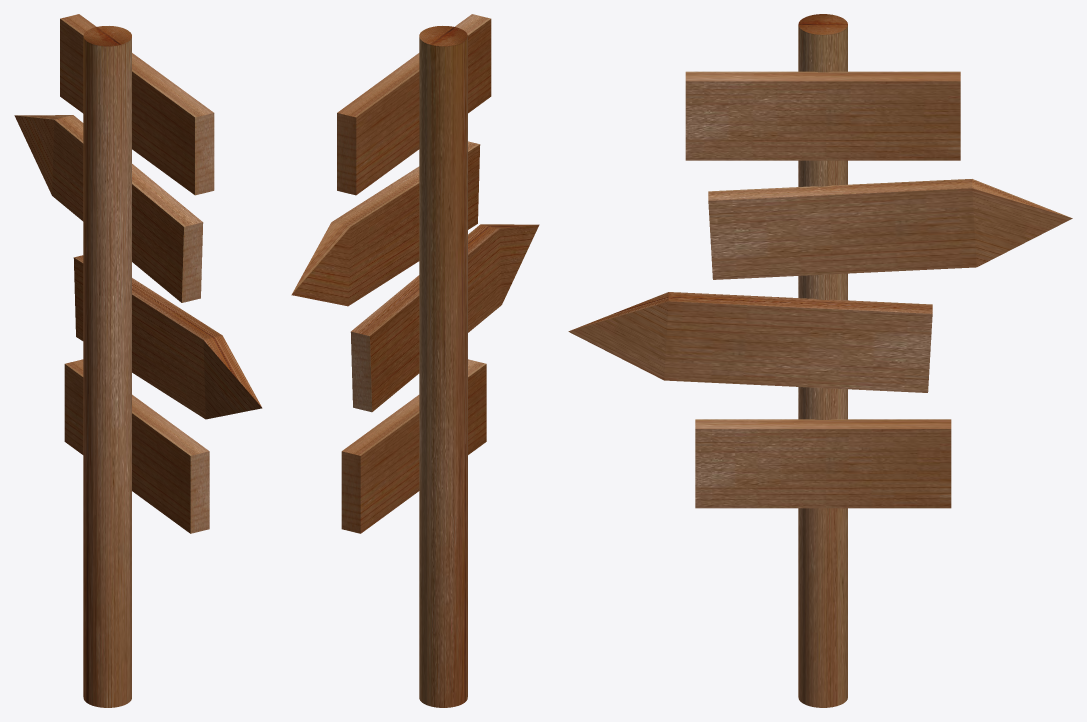
File: SignWIndications2.fbx
3 views of the same model, side by side, from view 1: azimuth 30°, elevation 25°; view 2: azimuth 150°, elevation 25°; view 3: azimuth 270°, elevation 25° (orthographic).
Visible parts, largest first — view 1: Cylinder, Sign2Options, Sign3Credits, Sign1Play, Sign4Exit; view 2: Cylinder, Sign3Credits, Sign2Options, Sign1Play, Sign4Exit; view 3: Sign2Options, Sign3Credits, Sign1Play, Sign4Exit, Cylinder.
Part boxes in pixels (x1,y1,x2,y2): Cylinder: [83, 26, 131, 707]; Sign2Options: [14, 115, 203, 302]; Sign3Credits: [73, 255, 262, 419]; Sign1Play: [60, 14, 214, 195]; Sign4Exit: [64, 359, 209, 533]; Cylinder: [419, 26, 467, 707]; Sign3Credits: [350, 224, 539, 412]; Sign2Options: [291, 141, 480, 306]; Sign1Play: [337, 14, 491, 195]; Sign4Exit: [341, 359, 486, 533]; Sign2Options: [708, 179, 1072, 279]; Sign3Credits: [568, 292, 932, 392]; Sign1Play: [685, 71, 960, 160]; Sign4Exit: [695, 419, 951, 508]; Cylinder: [798, 14, 847, 707].
Size of the model in its own units: 22.58 by 238 by 162.
